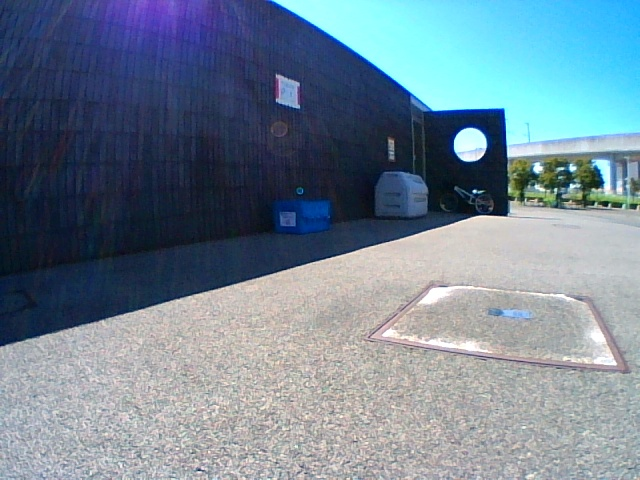blue_box: (275, 200, 330, 233), (280, 212, 294, 226)
